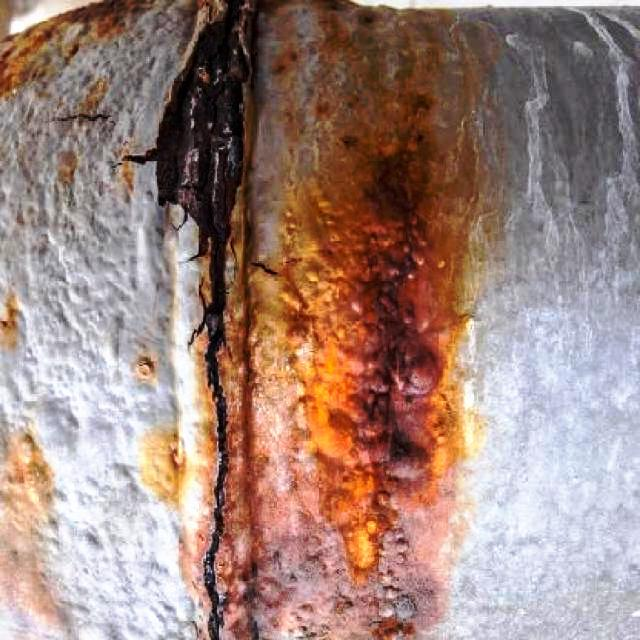Corrosion: (269, 64, 474, 640), (156, 0, 252, 241), (202, 238, 247, 640), (0, 432, 69, 640), (256, 0, 394, 86), (137, 427, 182, 508), (0, 296, 18, 351), (132, 356, 155, 384)
